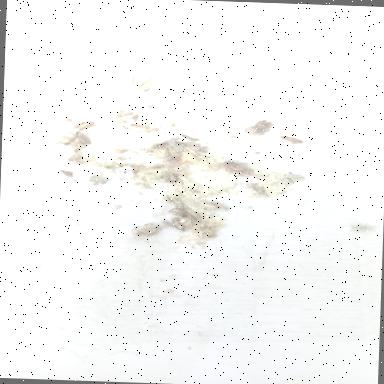pbw: (278, 134, 306, 144)
